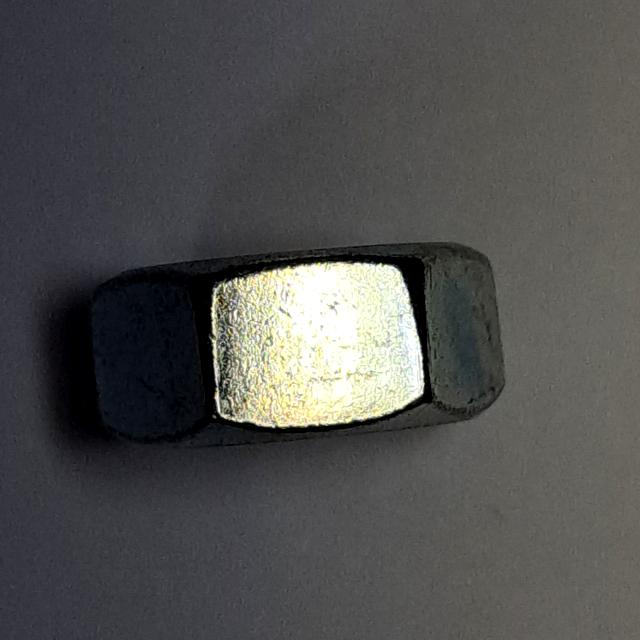Side_Excellent: (70, 218, 519, 478)
